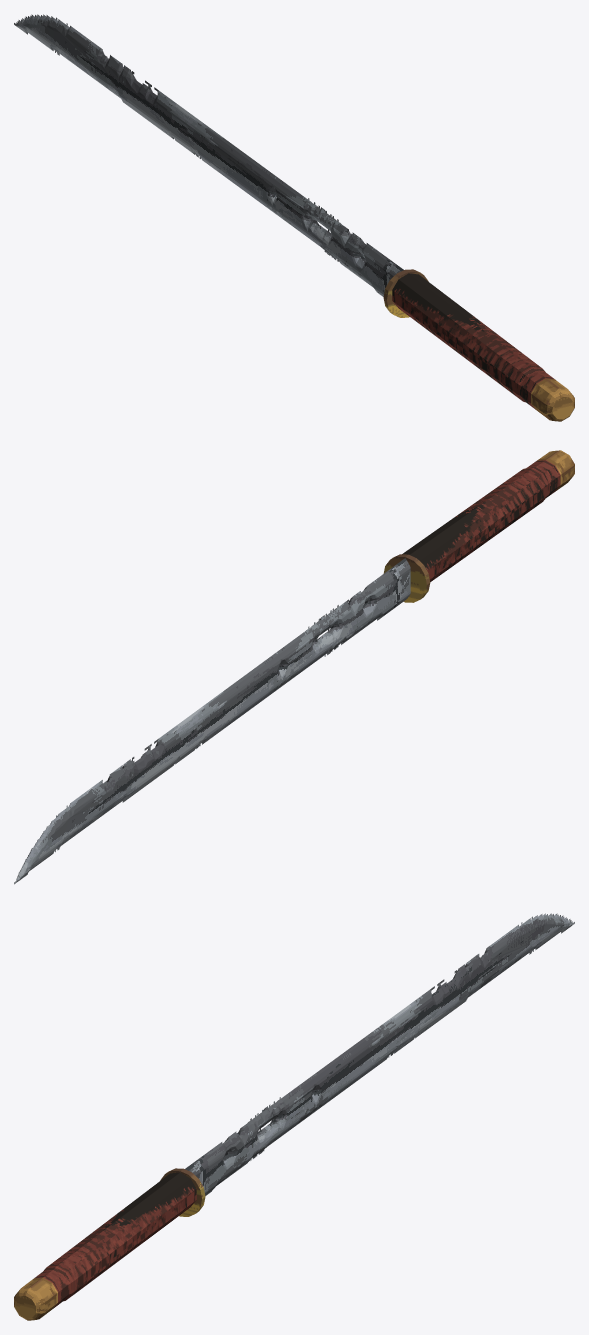
Rendered from dai-katana.glb.
The picture shows the model from 3 angles, top to bottom: view 1: azimuth 30°, elevation 25°; view 2: azimuth 150°, elevation 25°; view 3: azimuth 330°, elevation 25°; orthographic projection.
Parts seen in each view (by area): view 1: blade, grip, cap, tsuba; view 2: blade, grip, tsuba, cap; view 3: blade, grip, cap, tsuba.
Boxes of the visible parts, <box> form: blade: <box>14,14,408,296</box>; grip: <box>392,273,554,409</box>; cap: <box>531,378,574,421</box>; tsuba: <box>383,269,428,317</box>; blade: <box>14,558,410,884</box>; grip: <box>402,460,560,581</box>; tsuba: <box>383,554,430,602</box>; cap: <box>537,450,574,491</box>; blade: <box>180,913,574,1195</box>; grip: <box>34,1172,196,1308</box>; cap: <box>14,1277,57,1320</box>; tsuba: <box>160,1168,205,1216</box>.
Bounding box in the file's own units: 0.0591 × 0.0605 × 1.29.
Materials: 2 (2 with a texture image).
